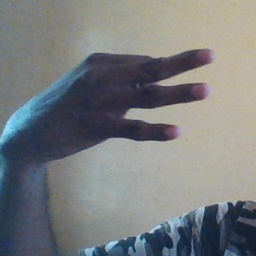K: (20, 46, 216, 167)
